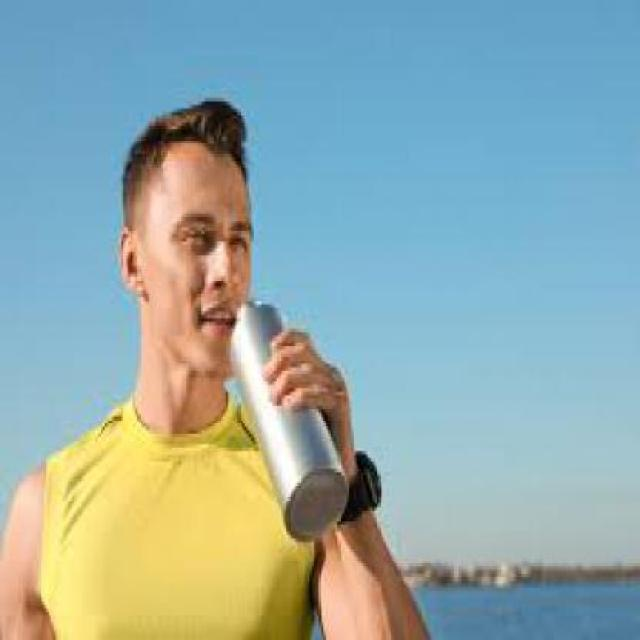Drinking: (226, 283, 354, 571)
